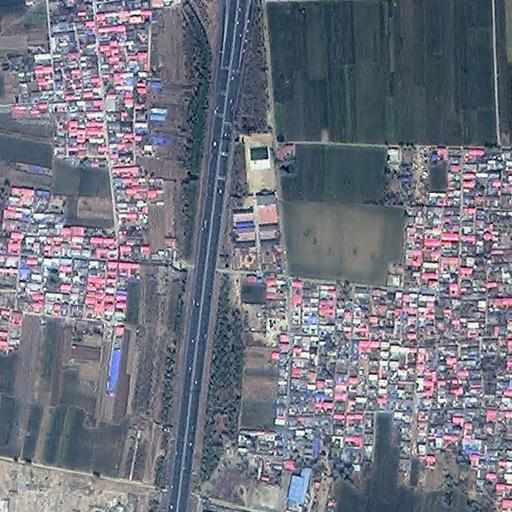school: (227, 128, 283, 256)
